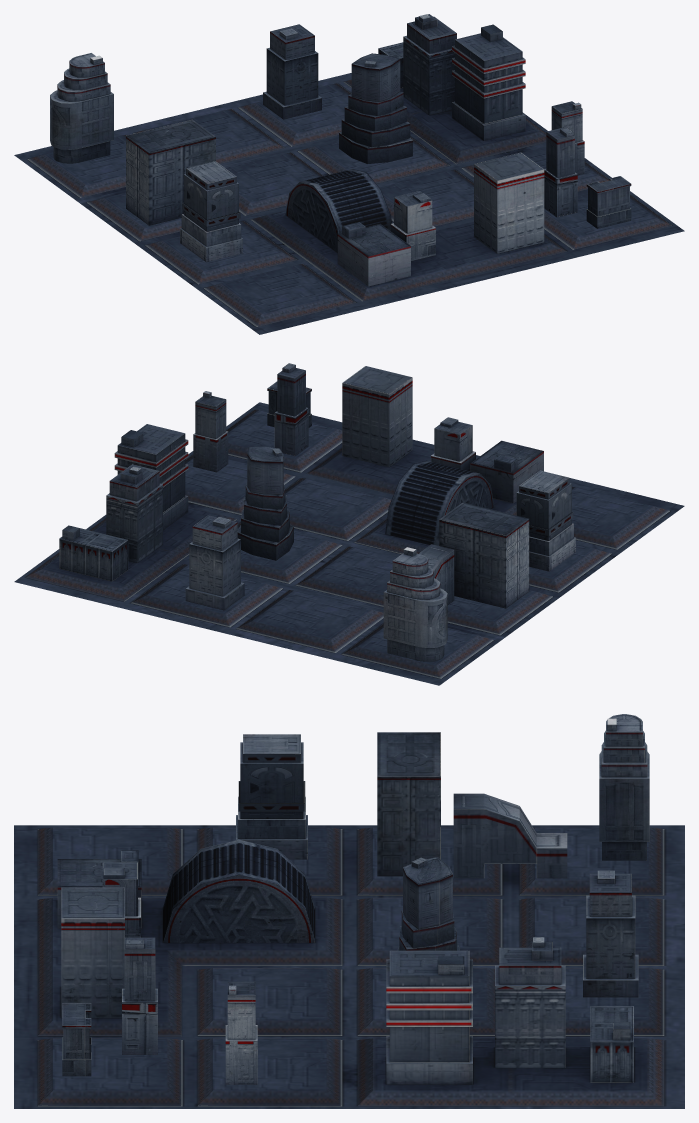
File: CityBlock1_Model.FBX
The picture shows the model from 3 angles, top to bottom: view 1: azimuth 30°, elevation 25°; view 2: azimuth 150°, elevation 25°; view 3: azimuth 270°, elevation 25°; orthographic projection. The views are drawn at different scales.
Parts seen in each view (by area): view 1: polySurface01; view 2: polySurface01; view 3: polySurface01.
Boxes of the visible parts, x1,y1,x2,y2 form: polySurface01: (14,14,684,334); polySurface01: (14,363,684,685); polySurface01: (14,714,684,1108).
Bounding box in the file's own units: 43.8 × 10.15 × 43.8.
Materials: 1 (1 with a texture image).
